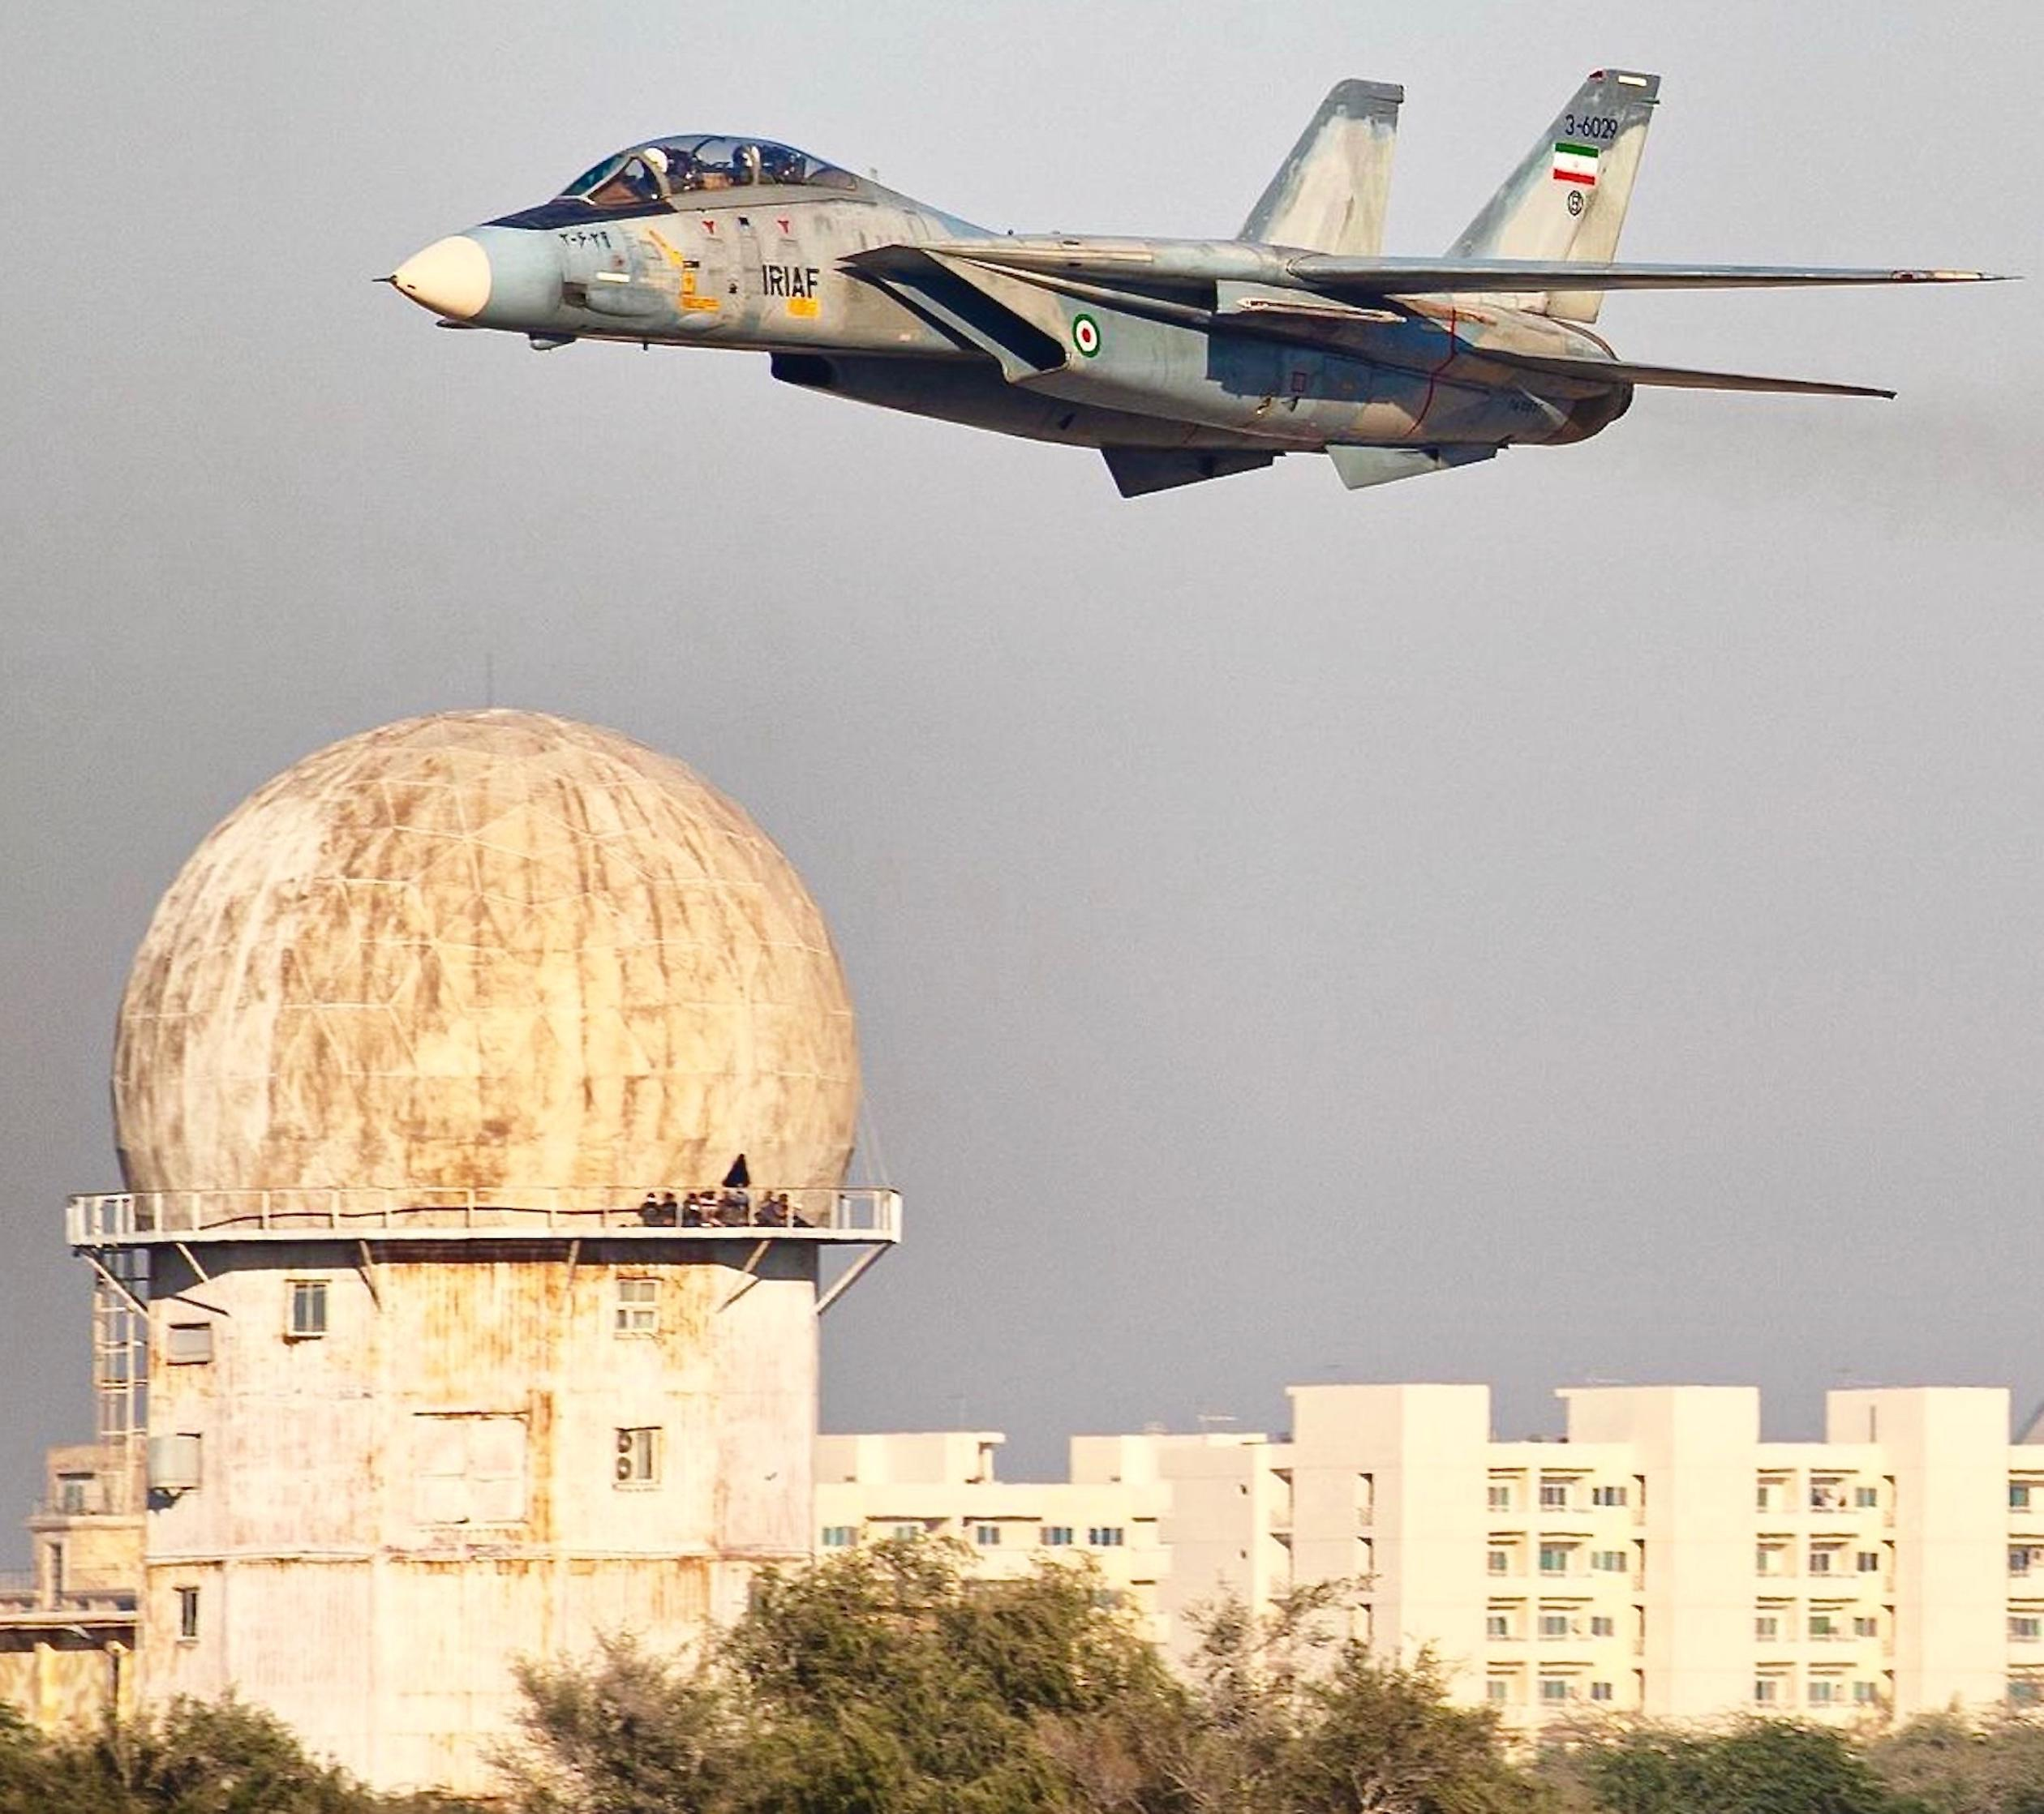F14: (370, 68, 2026, 499)
